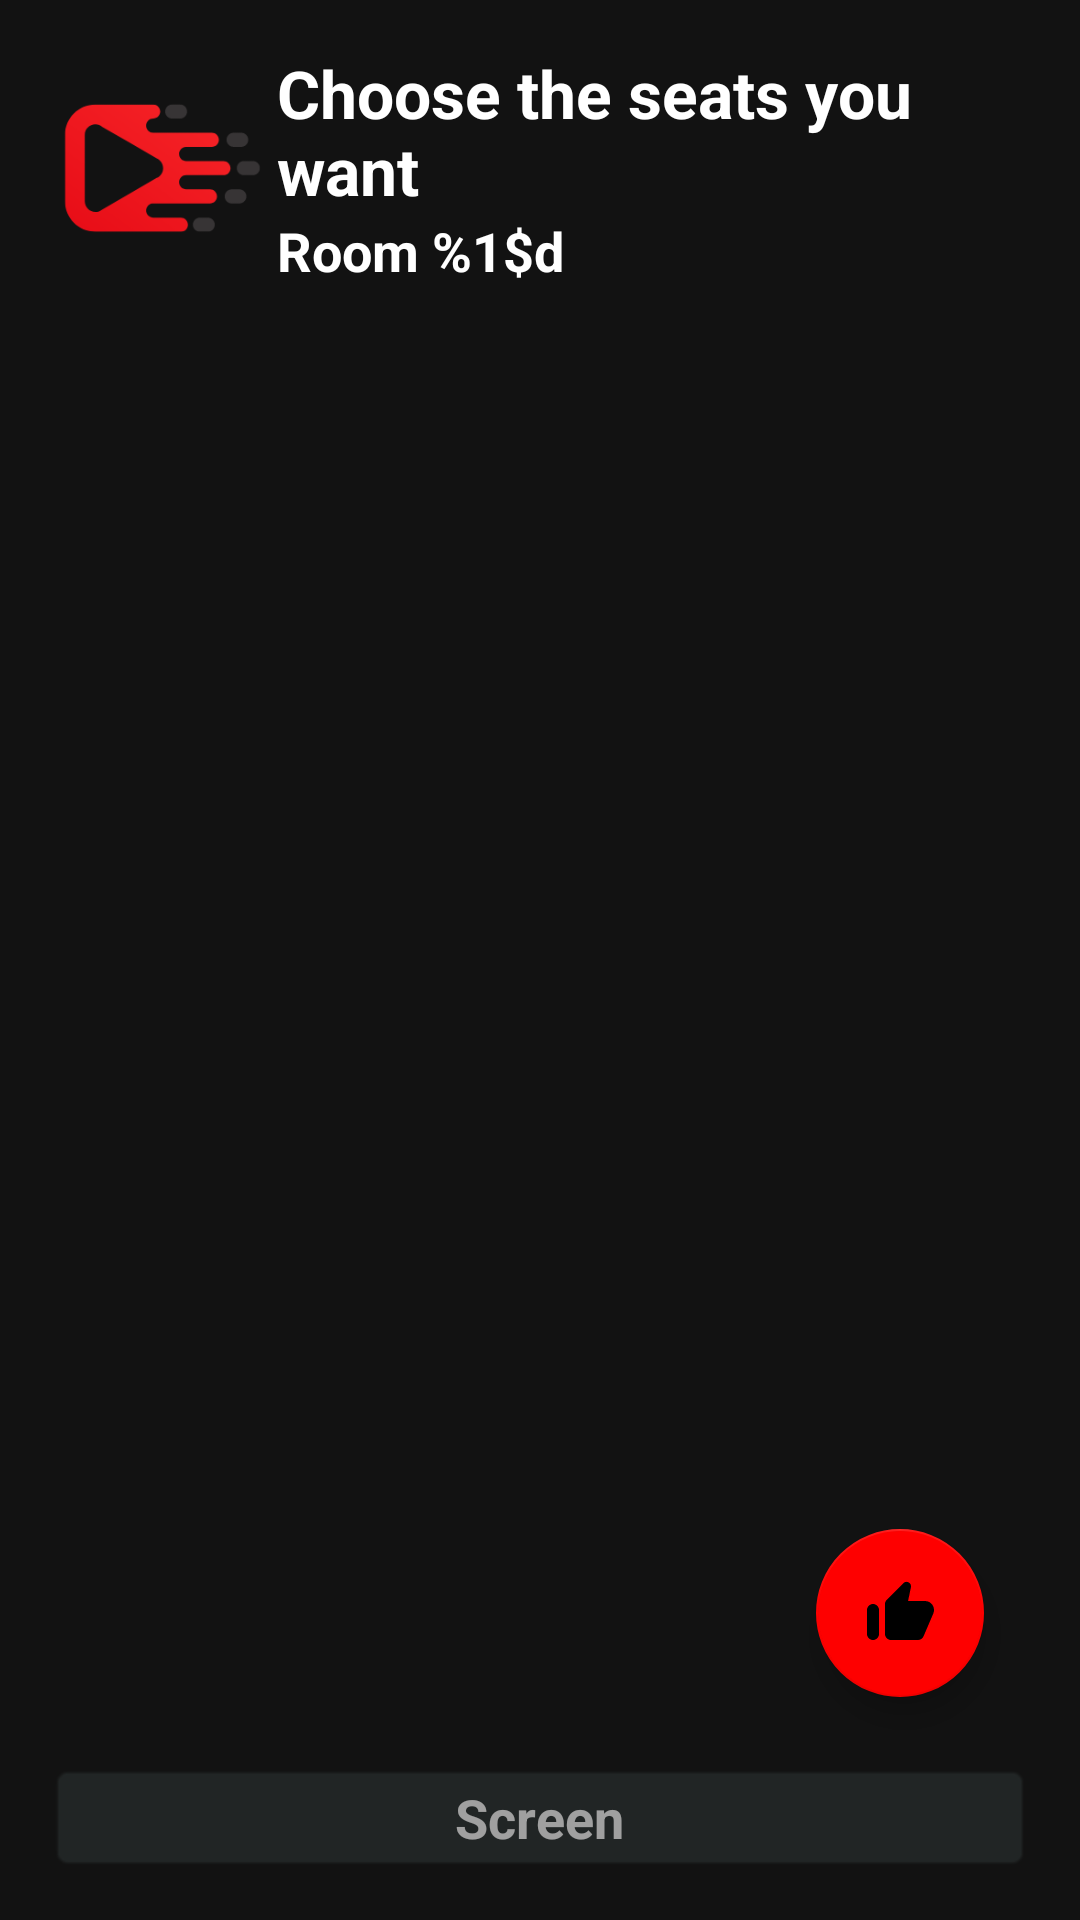

Named icons in this screenshot (1080 x 1920) and their centers, (x,y):
accept selection: (900,1613)
